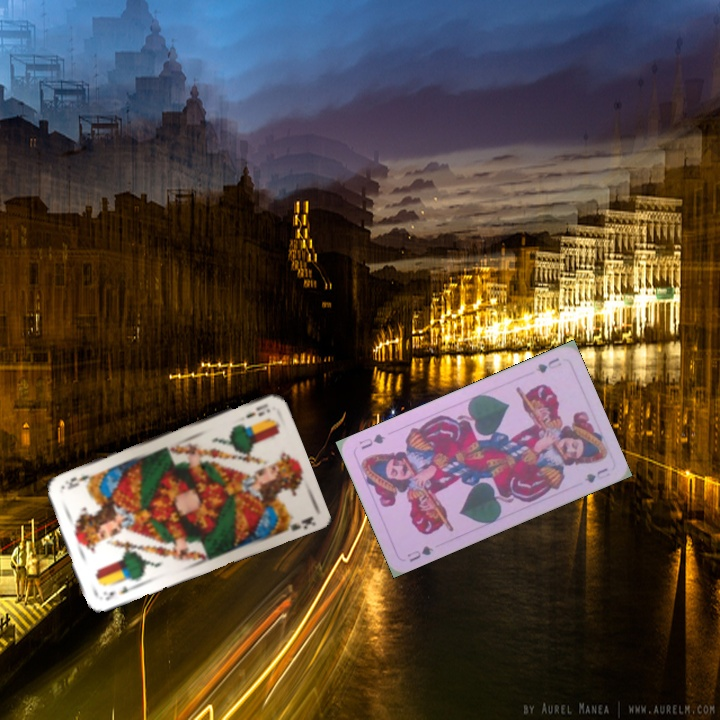EK: (99, 580, 138, 603), (241, 400, 273, 421)
GU: (403, 542, 436, 565), (532, 354, 564, 376)
